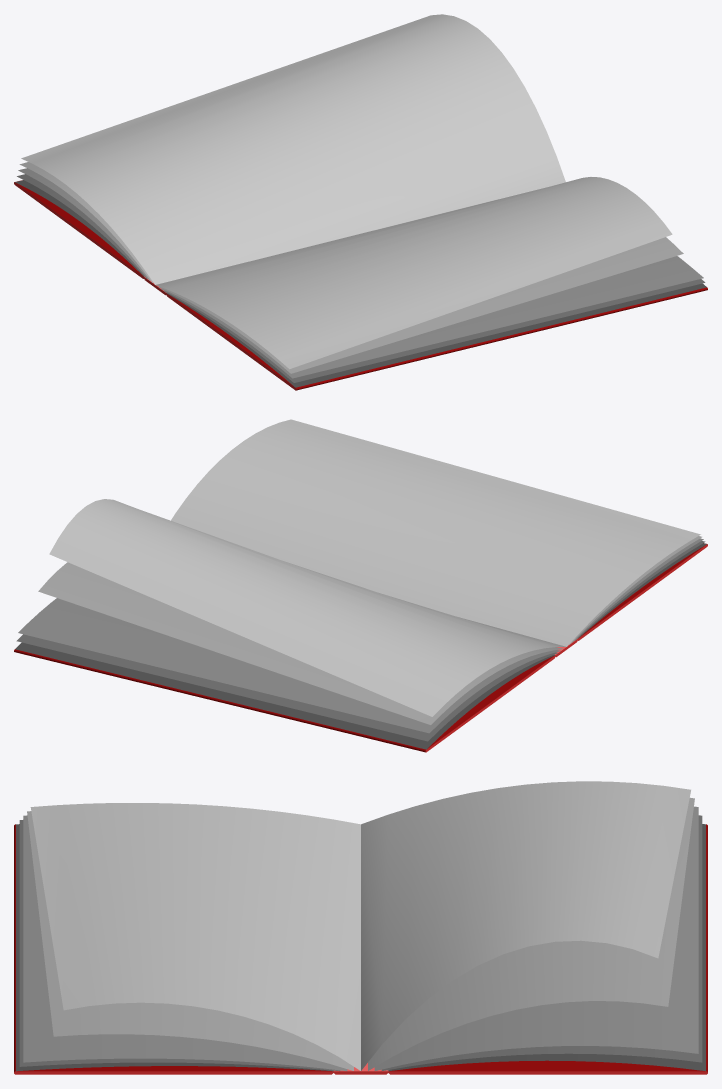
Rendered from Book.obj.
The picture shows the model from 3 angles, top to bottom: view 1: azimuth 30°, elevation 25°; view 2: azimuth 150°, elevation 25°; view 3: azimuth 270°, elevation 25°; orthographic projection. The views are drawn at different scales.
Parts seen in each view (by area): view 1: Mesh1 Model; view 2: Mesh1 Model; view 3: Mesh1 Model.
Boxes of the visible parts, <box> form: Mesh1 Model: <box>14,14,707,390</box>; Mesh1 Model: <box>14,419,707,752</box>; Mesh1 Model: <box>14,781,707,1074</box>.
Size of the model in its own units: 165 by 39.57 by 196.
